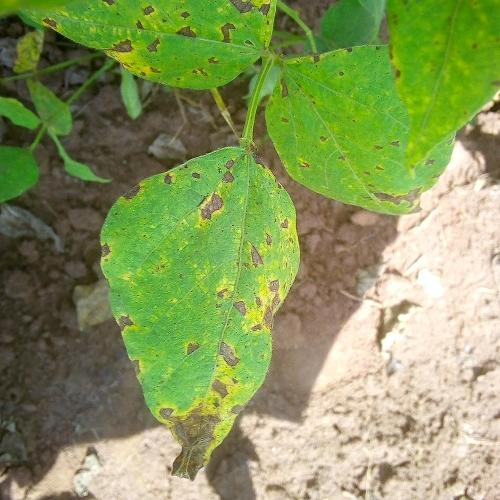hawar: (219, 168, 298, 334), (152, 407, 232, 477), (191, 184, 229, 231), (209, 373, 244, 404), (208, 337, 241, 368), (116, 174, 143, 205), (98, 232, 122, 263), (216, 158, 238, 190), (176, 334, 202, 360), (158, 160, 185, 181), (125, 356, 146, 382), (118, 310, 136, 329)
mozaik: (144, 235, 214, 319)
